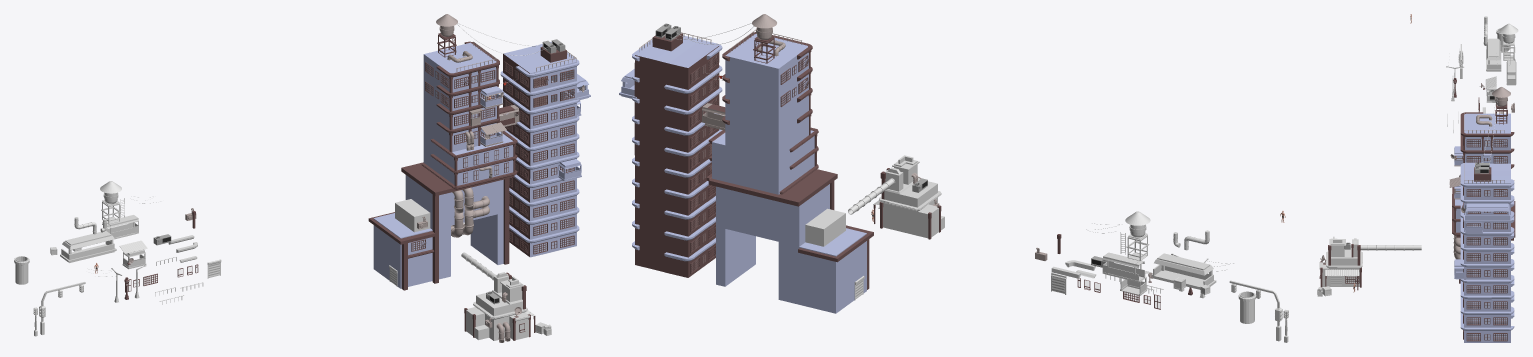
Rendered from Huisje1Modular.fbx.
The picture shows the model from 3 angles, left to right: view 1: azimuth 30°, elevation 25°; view 2: azimuth 150°, elevation 25°; view 3: azimuth 270°, elevation 25°; orthographic projection. The views are drawn at different scales.
Visible parts, largest first — view 1: Cube.007, Cube.054, Cube.146, Cube.062, Cube.050, Cube.018, Cube.173, Cube.137, Cube.136, Cube.060; view 2: Cube.007, Cube.054, Cube.146, Cube.062, Cube.050, Cube.173, Cube.060, Cube.137, Cube.047; view 3: Cube.054, Cube.007, Cube.146, Cube.068, Cube.050, Cube.060, Cylinder.014, Cylinder.013, Cube.063, Cube.026, Cube.046, Cube.058 (+1 smaller).
Boxes of the visible parts, left/top/right/bottom form: Cube.007: left=373, top=42, right=513, bottom=288; Cube.054: left=500, top=42, right=579, bottom=257; Cube.146: left=466, top=272, right=528, bottom=340; Cube.062: left=401, top=162, right=514, bottom=264; Cube.050: left=60, top=230, right=116, bottom=262; Cube.018: left=436, top=103, right=499, bottom=144; Cube.173: left=395, top=199, right=430, bottom=232; Cube.137: left=368, top=212, right=435, bottom=290; Cube.136: left=432, top=195, right=438, bottom=283; Cube.060: left=102, top=215, right=138, bottom=239; Cube.007: left=712, top=34, right=866, bottom=313; Cube.054: left=632, top=35, right=722, bottom=277; Cube.146: left=878, top=155, right=944, bottom=238; Cube.062: left=708, top=169, right=837, bottom=206; Cube.050: left=1151, top=253, right=1216, bottom=289; Cube.173: left=805, top=208, right=845, bottom=246; Cube.060: left=1102, top=252, right=1144, bottom=282; Cube.137: left=798, top=225, right=873, bottom=289; Cube.047: left=702, top=103, right=725, bottom=130; Cube.054: left=1460, top=162, right=1514, bottom=342; Cube.007: left=1455, top=113, right=1510, bottom=232; Cube.146: left=1322, top=236, right=1359, bottom=286; Cube.068: left=1463, top=203, right=1511, bottom=222; Cube.050: left=1486, top=38, right=1501, bottom=71; Cube.060: left=1506, top=59, right=1516, bottom=85; Cylinder.014: left=1499, top=23, right=1518, bottom=43; Cylinder.013: left=1492, top=87, right=1510, bottom=106; Cube.063: left=1502, top=40, right=1515, bottom=60; Cube.026: left=1454, top=259, right=1463, bottom=279; Cube.046: left=1465, top=222, right=1482, bottom=233; Cube.058: left=1474, top=167, right=1491, bottom=181.
Bounding box in the file's own units: 9836 × 4079 × 3537.
